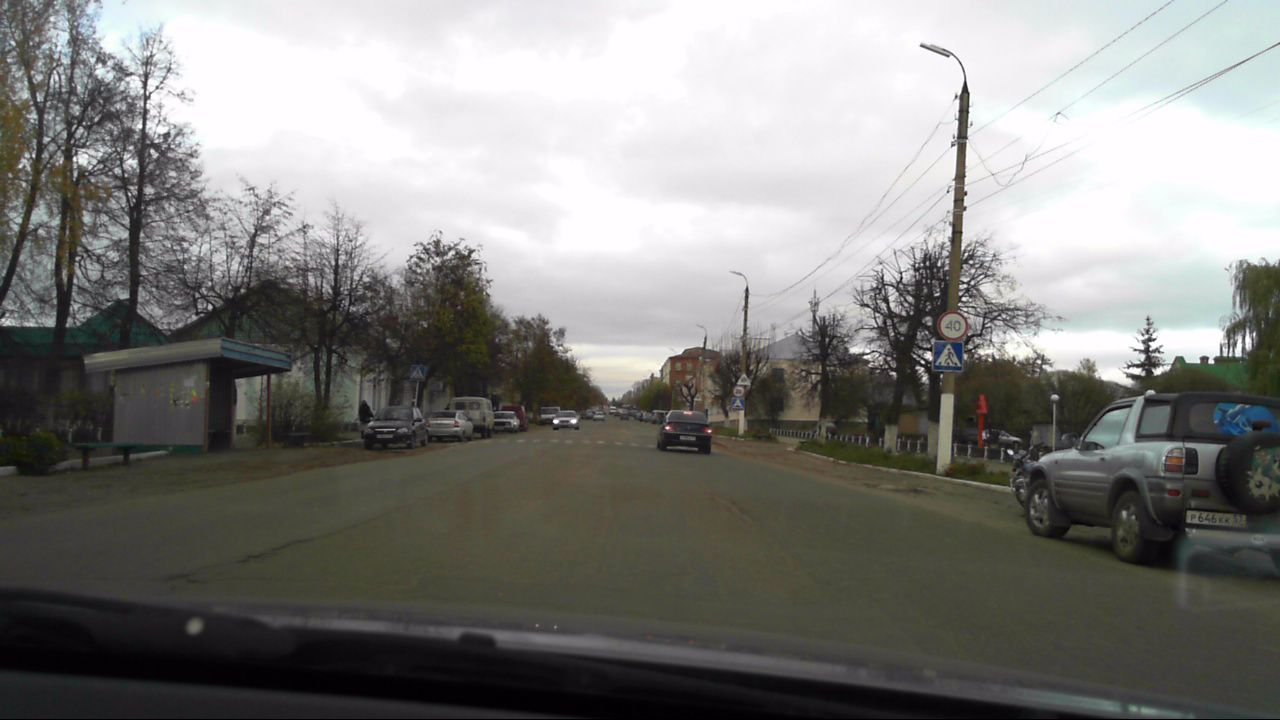speed_warning_40: (937, 310, 968, 340)
